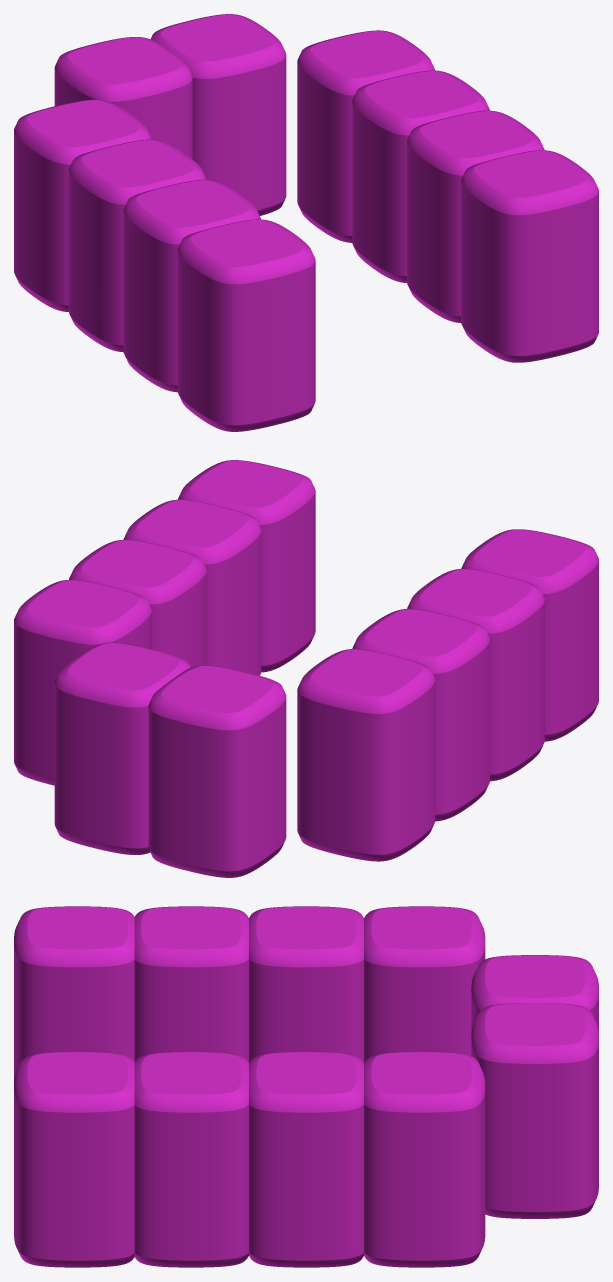
File: Letter_u_Small.fbx
3 renders of one model, top to bottom at view 1: azimuth 30°, elevation 25°; view 2: azimuth 150°, elevation 25°; view 3: azimuth 270°, elevation 25°, orthographic. The views are drawn at different scales.
Visible parts, largest first — view 1: Letter_u; view 2: Letter_u; view 3: Letter_u.
Boxes of the visible parts, x1=… form: Letter_u: x1=14, y1=14, x2=598, y2=431; Letter_u: x1=14, y1=460, x2=598, y2=877; Letter_u: x1=14, y1=906, x2=598, y2=1267.
Bounding box in the file's own units: 0.3465 × 0.14 × 0.43.
